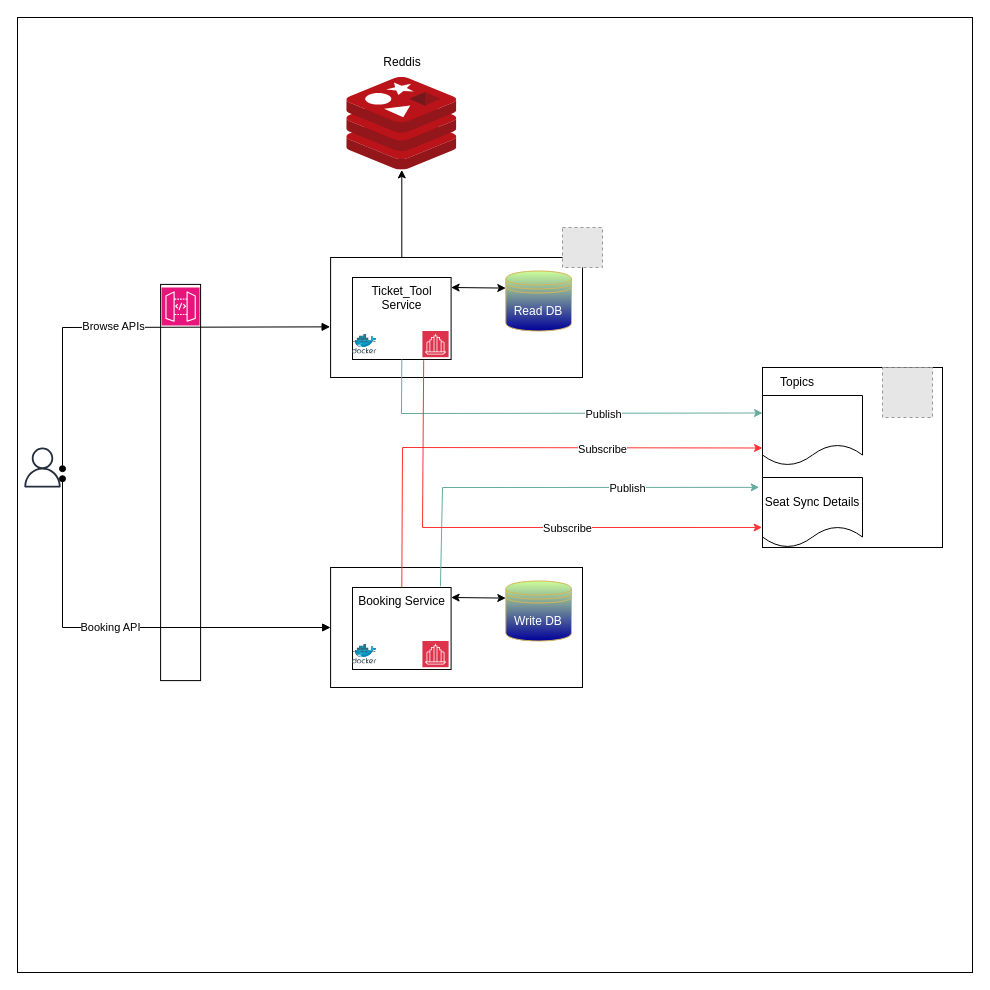
Image size: 990x990. Some labels were removed from this diagram. Grey dashed boxes stand in for pictures. The centre of each missing label's shape, as x and y in pixels:
API GATEWAY: pixel 180 482
Release Locked Seat: pixel 812 430
